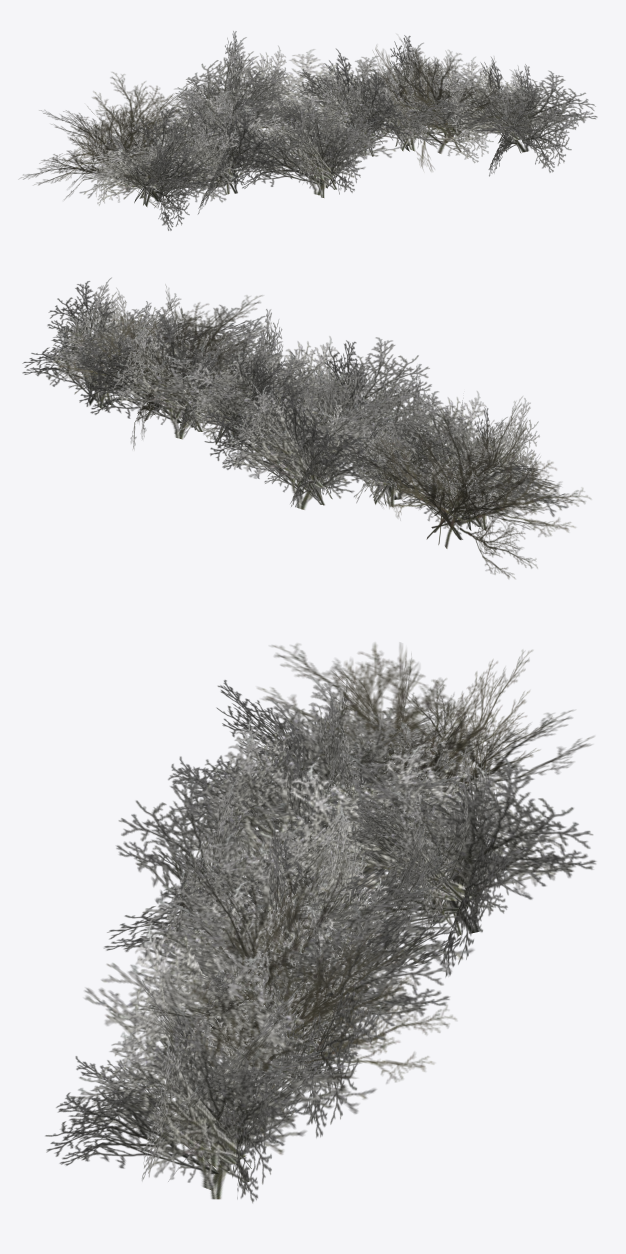
Rendered from whedge_a.glb.
3 renders of one model, top to bottom at view 1: azimuth 30°, elevation 25°; view 2: azimuth 150°, elevation 25°; view 3: azimuth 270°, elevation 25°, orthographic. The views are drawn at different scales.
Visible parts, largest first — view 1: Winter_Trees_Branches.003; view 2: Winter_Trees_Branches.003; view 3: Winter_Trees_Branches.003.
Boxes of the visible parts, bbox=[...] form: Winter_Trees_Branches.003: bbox=[19, 31, 597, 230]; Winter_Trees_Branches.003: bbox=[22, 277, 590, 578]; Winter_Trees_Branches.003: bbox=[45, 642, 595, 1202].
Size of the model in its own units: 29.23 by 7.87 by 15.22.
Materials: 1 (1 with a texture image).
